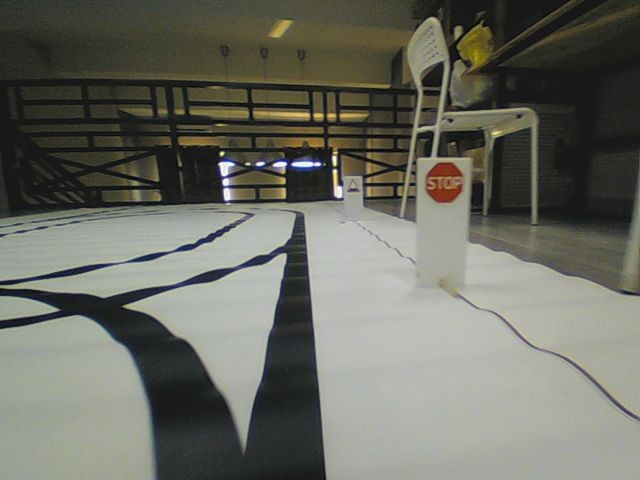Nerov: (346, 178, 360, 194)
Stop: (425, 161, 464, 204)
